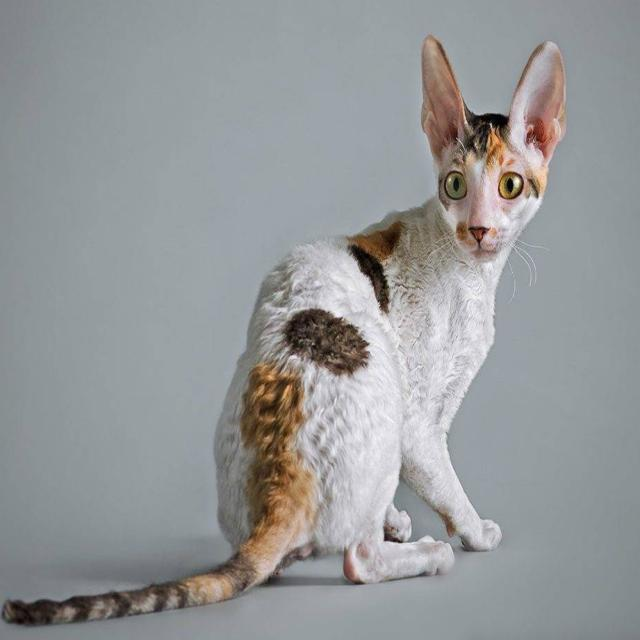Cornish Rex: (0, 24, 572, 633)
